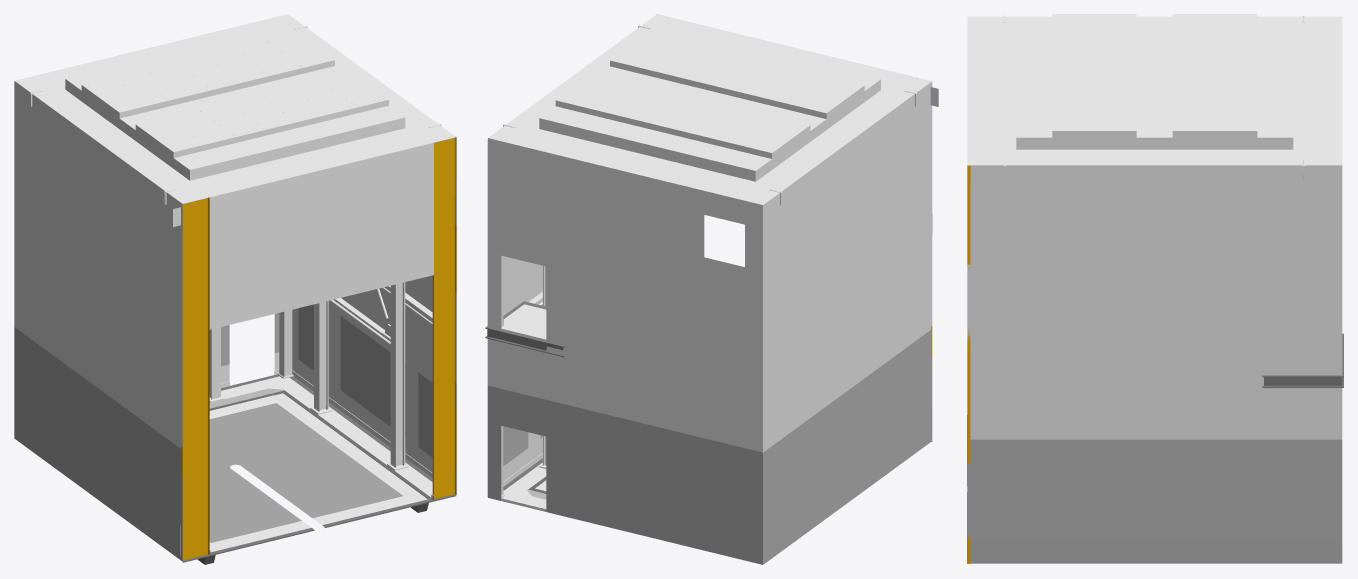
3 views of the same model, side by side, from view 1: azimuth 30°, elevation 25°; view 2: azimuth 150°, elevation 25°; view 3: azimuth 270°, elevation 25° (orthographic). The views are drawn at different scales.
Parts seen in each view (by area): view 1: SM_H_Building_FutureTech_PrintArea_InterWall_02; view 2: SM_H_Building_FutureTech_PrintArea_InterWall_02; view 3: SM_H_Building_FutureTech_PrintArea_InterWall_02.
Boxes of the visible parts, <box> form: SM_H_Building_FutureTech_PrintArea_InterWall_02: <box>14,14,456,564</box>; SM_H_Building_FutureTech_PrintArea_InterWall_02: <box>485,14,938,564</box>; SM_H_Building_FutureTech_PrintArea_InterWall_02: <box>967,14,1343,563</box>.
Size of the model in its own units: 376 by 364 by 474.
